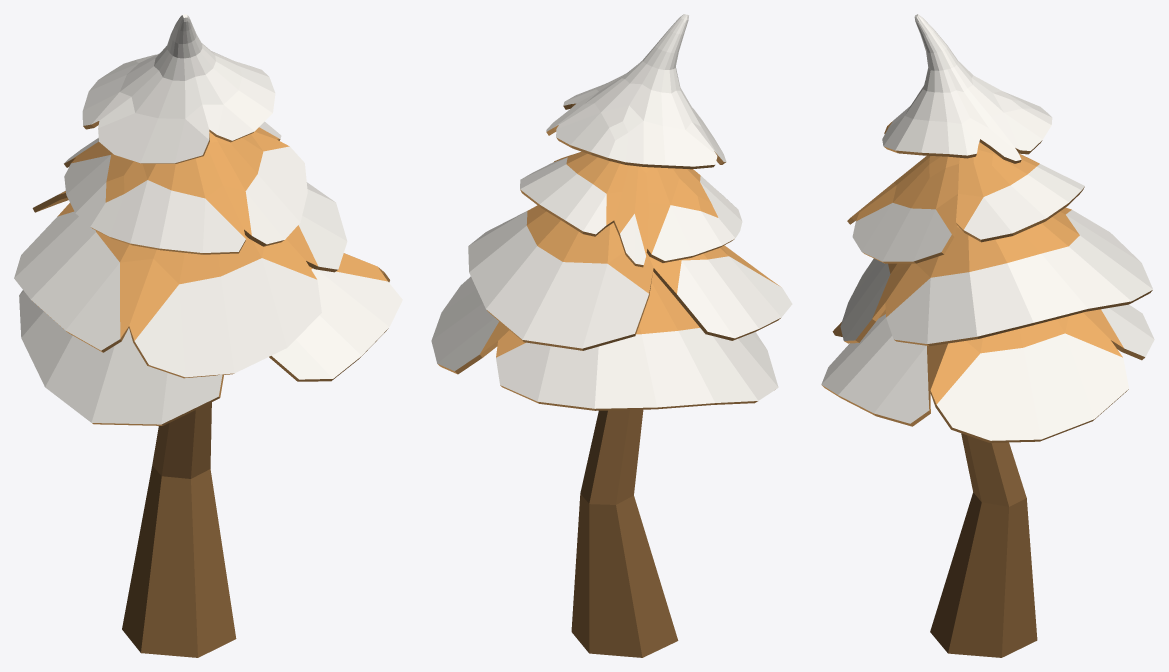
The model's file is PineTree_Snow_5.glb.
The picture shows the model from 3 angles, left to right: view 1: azimuth 30°, elevation 25°; view 2: azimuth 150°, elevation 25°; view 3: azimuth 270°, elevation 25°; orthographic projection. The views are drawn at different scales.
Parts seen in each view (by area): view 1: PineTree_Snow_5; view 2: PineTree_Snow_5; view 3: PineTree_Snow_5.
Boxes of the visible parts, x1,y1,x2,y2 form: PineTree_Snow_5: (14,14,402,657); PineTree_Snow_5: (431,14,792,657); PineTree_Snow_5: (821,14,1154,657).
Size of the model in its own units: 1.47 by 2.69 by 1.34.
